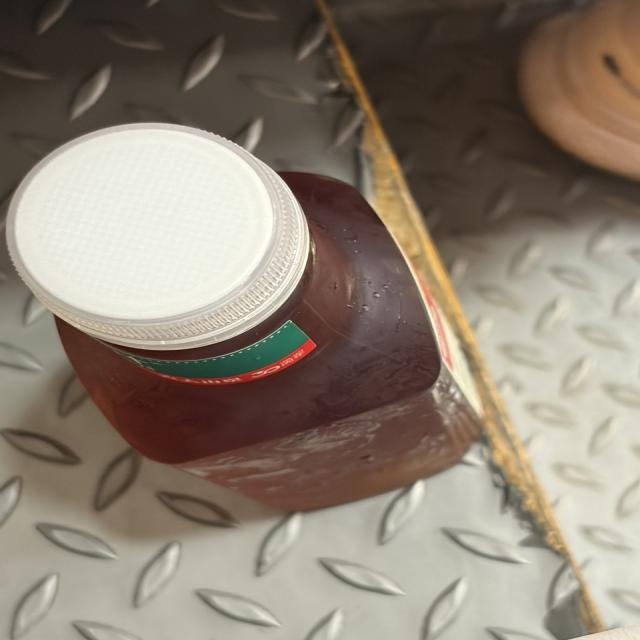high: (7, 123, 480, 510)
